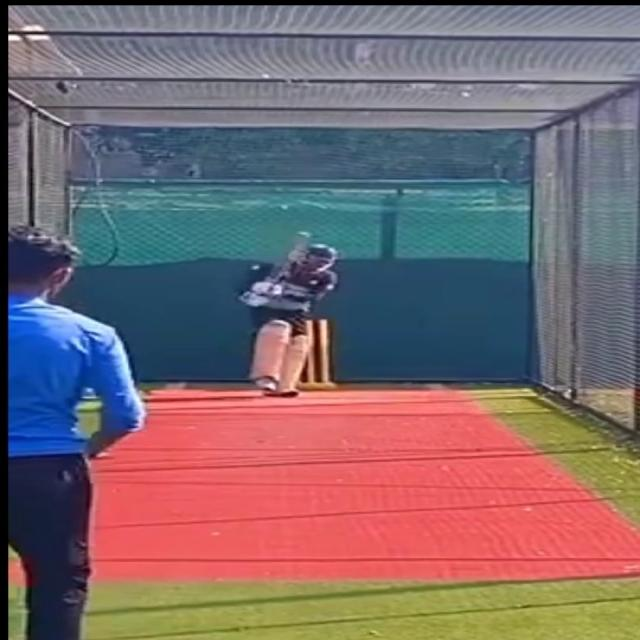stump: (301, 313, 339, 387)
